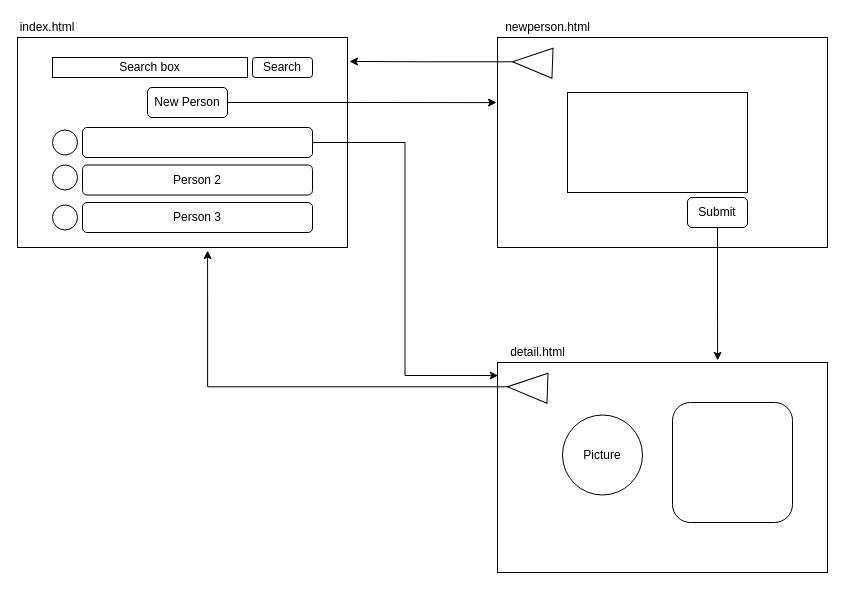
Image size: 845x590. Some labels were removed from this diagram. The box of each missing label's shape, as (x1, y1, x2, y2) in pixels:
Form: (566, 92, 748, 192)
Information: (672, 402, 792, 522)
Person 1: (82, 126, 312, 158)
